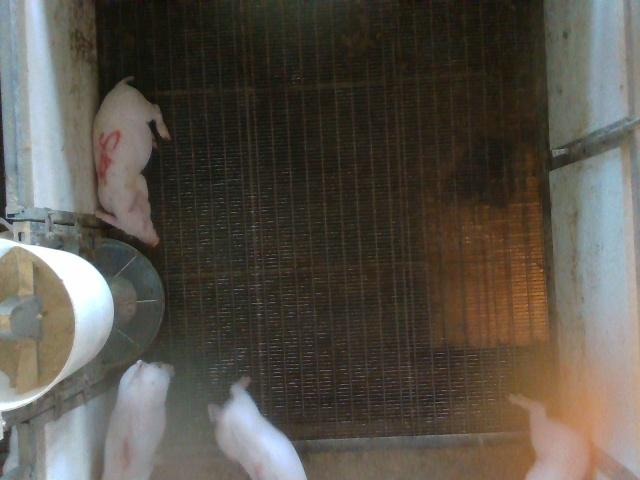pig-1: (209, 378, 305, 479), (102, 360, 174, 478)
pig-5: (94, 76, 171, 246)
